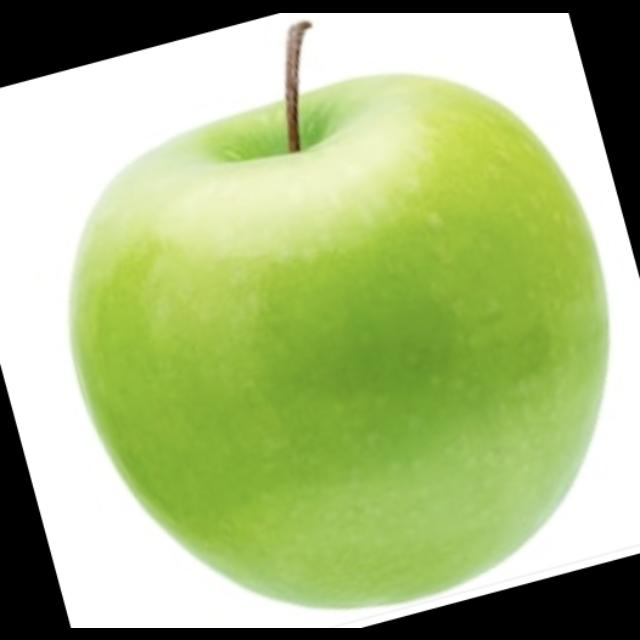Apel Segar: (66, 65, 606, 613)
